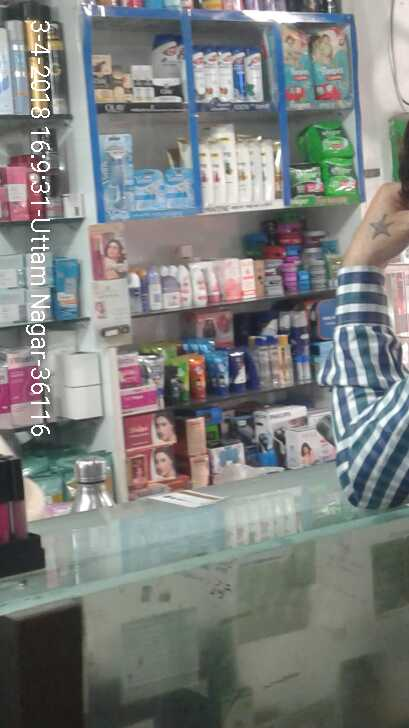venus: (103, 133, 134, 211), (167, 166, 194, 208), (137, 167, 163, 208)
